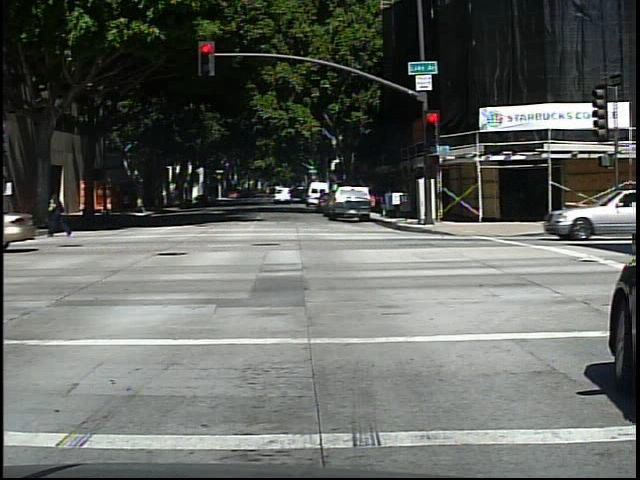person: (49, 187, 75, 239)
